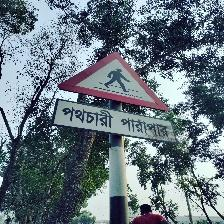Pedestrian-crossing: (53, 50, 176, 143)
